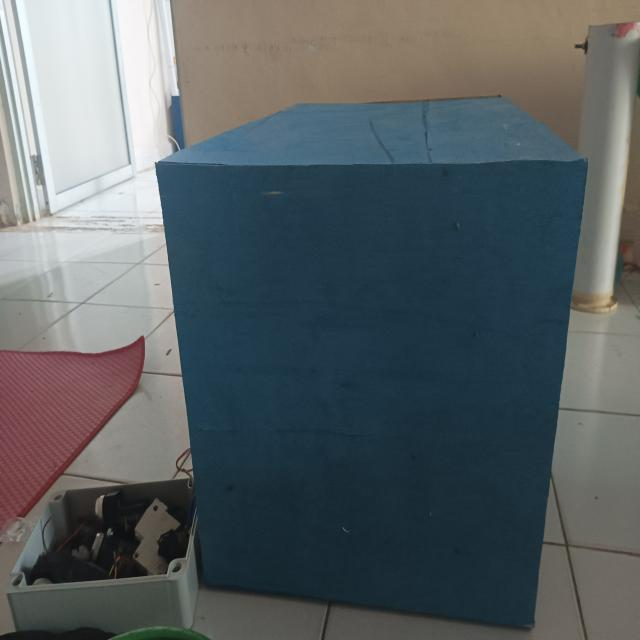blue_box: (132, 52, 606, 640)
